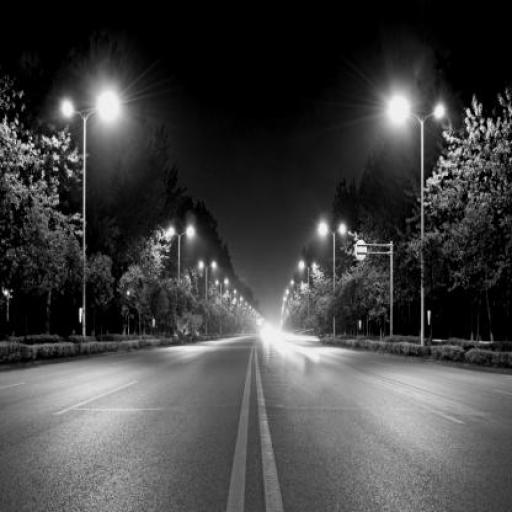street light: (389, 91, 445, 350), (62, 95, 120, 338), (318, 222, 348, 338), (168, 226, 196, 332), (198, 261, 217, 335), (298, 261, 317, 329), (290, 279, 304, 330), (217, 278, 229, 333), (226, 289, 236, 331)
